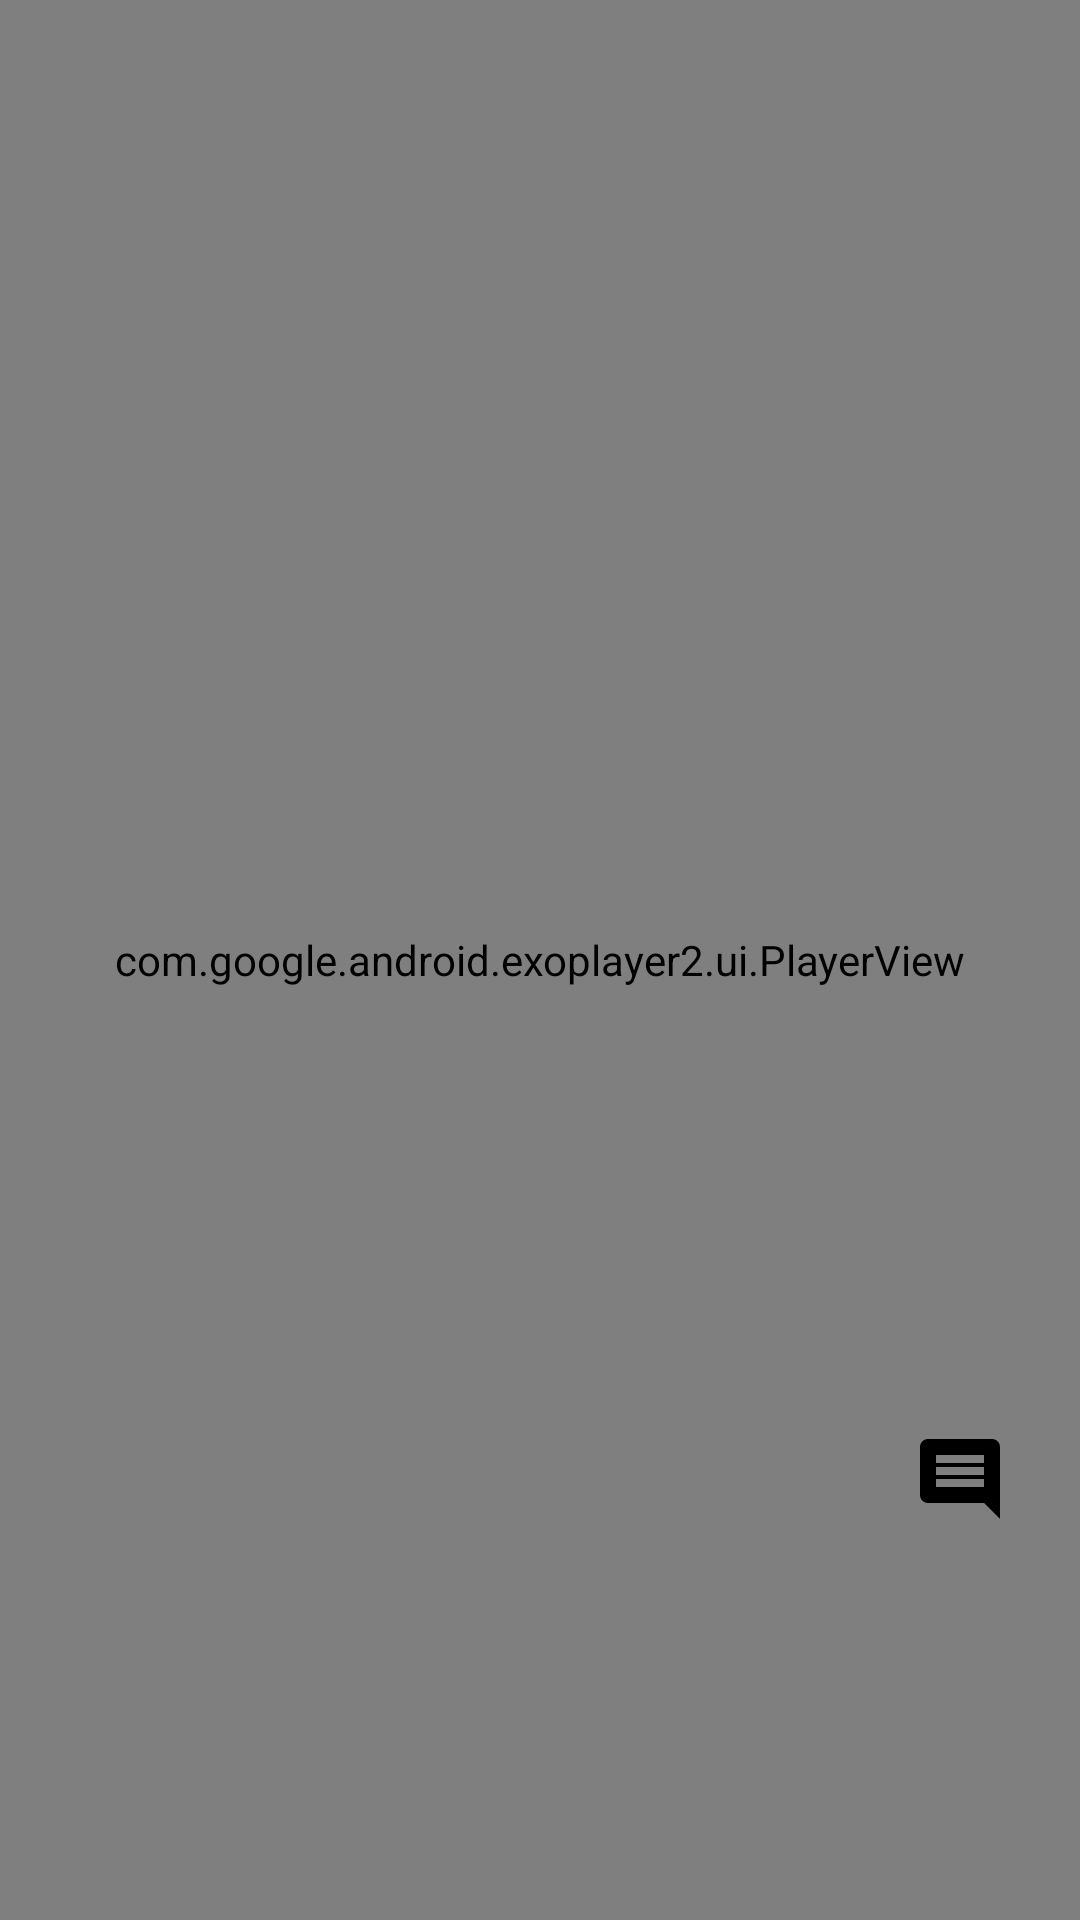

Icons on this 1080 x 1920 Android screen, each with its box as {"x1": x1, "y1": y1, "x2": x2, "y2": y2}:
comment: {"x1": 920, "y1": 1439, "x2": 1000, "y2": 1519}
